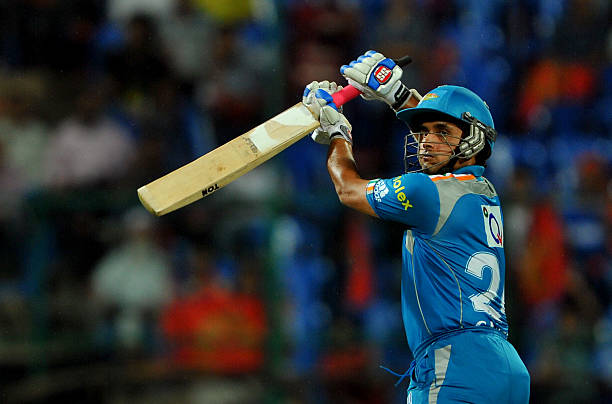bottom left: (129, 185, 146, 202)
bottom right: (146, 204, 168, 226)
top left: (291, 93, 311, 113)
top right: (307, 118, 327, 138)
